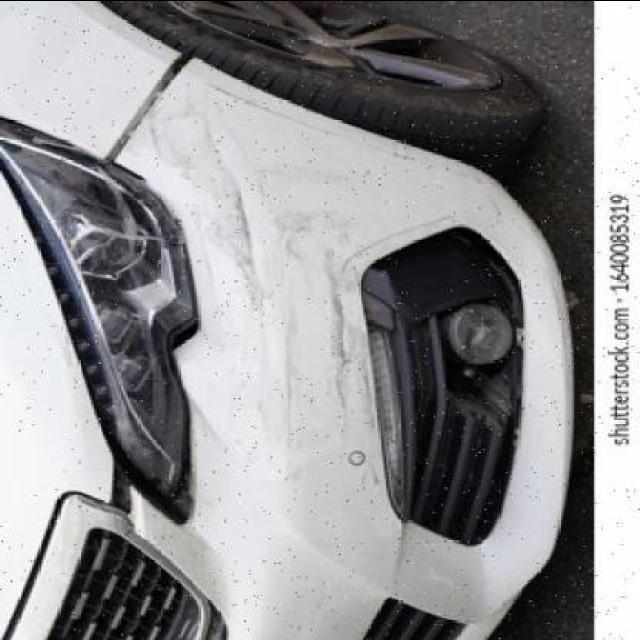front-bumper-dent: (116, 55, 548, 511)
